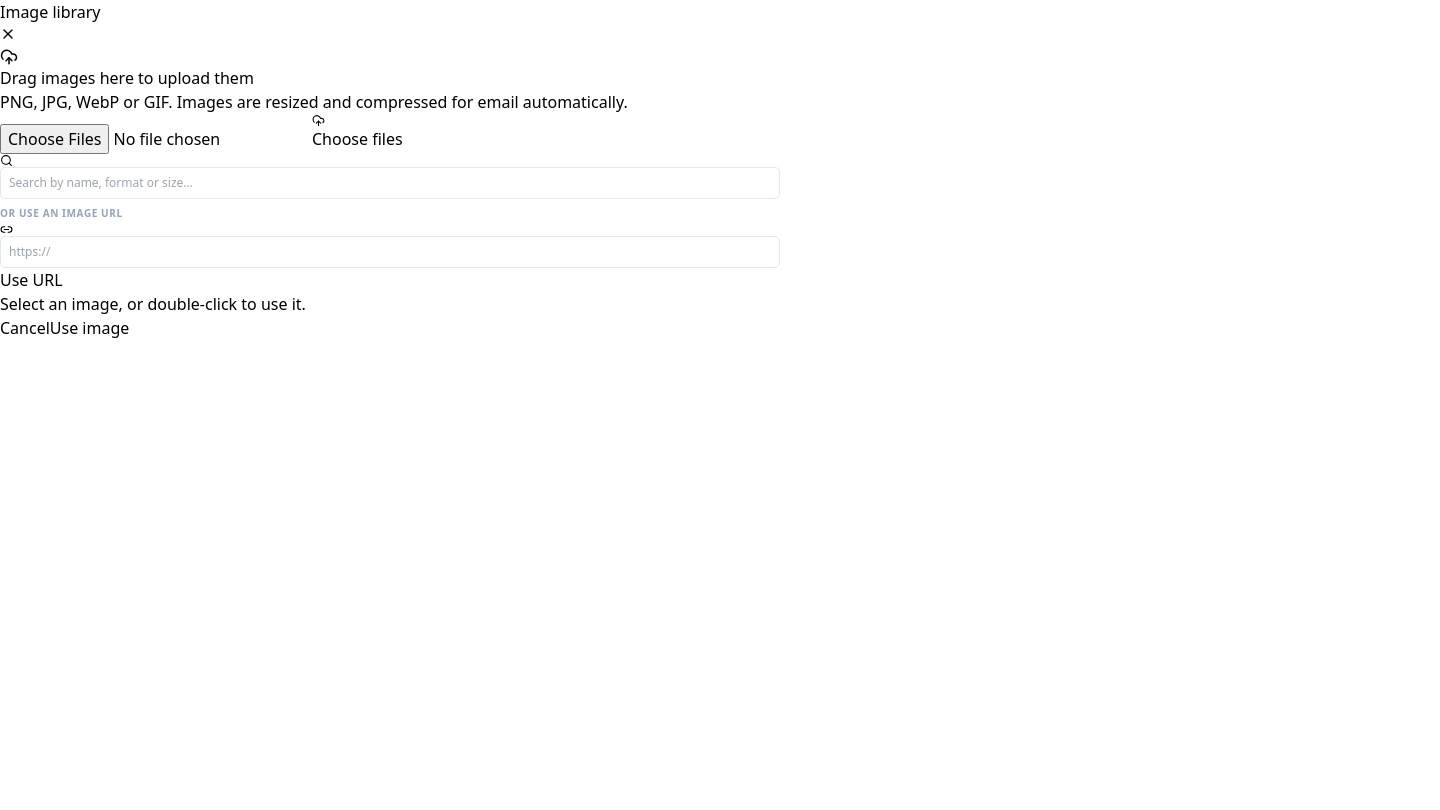
AssetLibraryModal › rejects a URL that is not http(s)
In the field named "Image URL": coordinates (390, 252) [0,236,780,268], type "javascript:alert(1)"
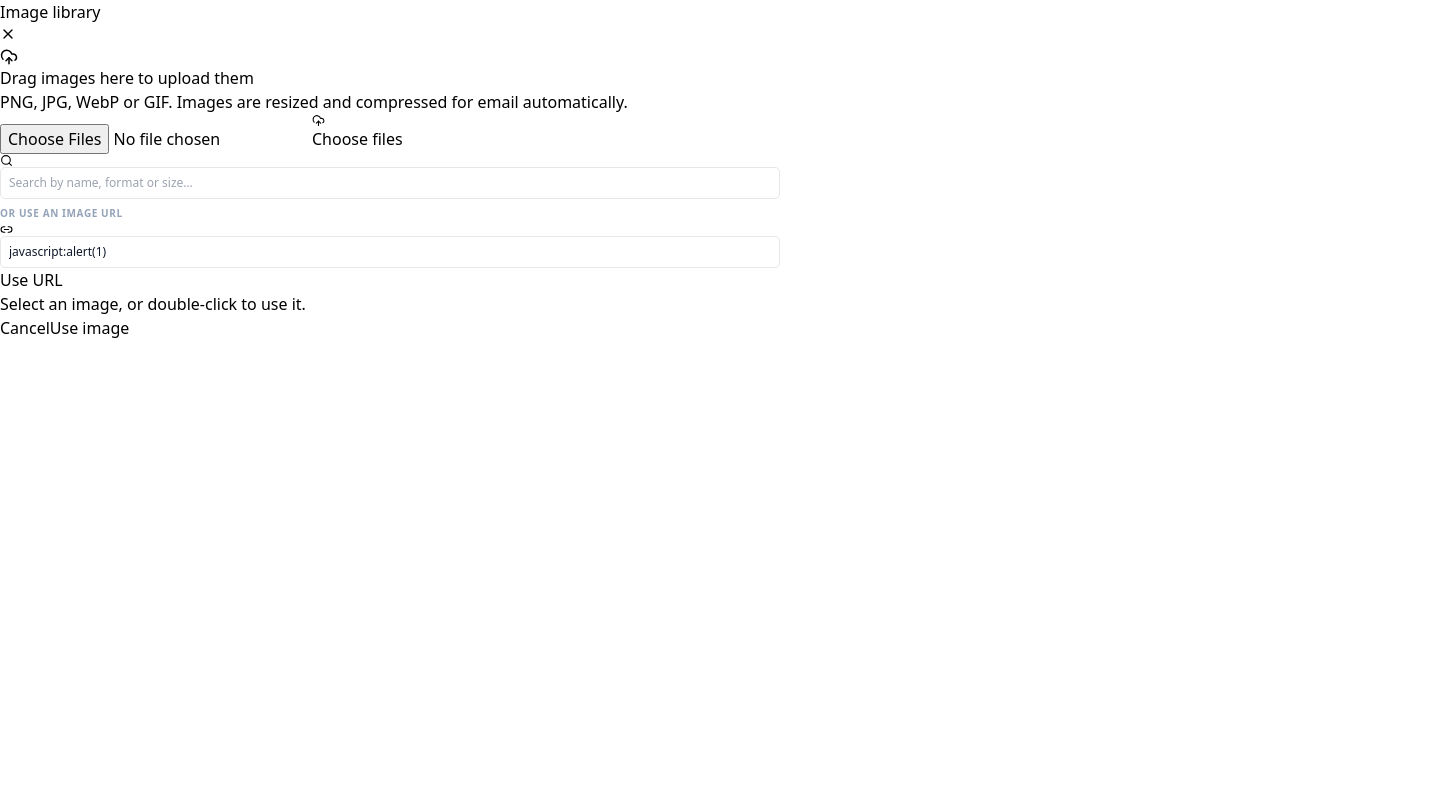
Click the button "Use URL": coordinates (31, 280) [0,268,63,292]
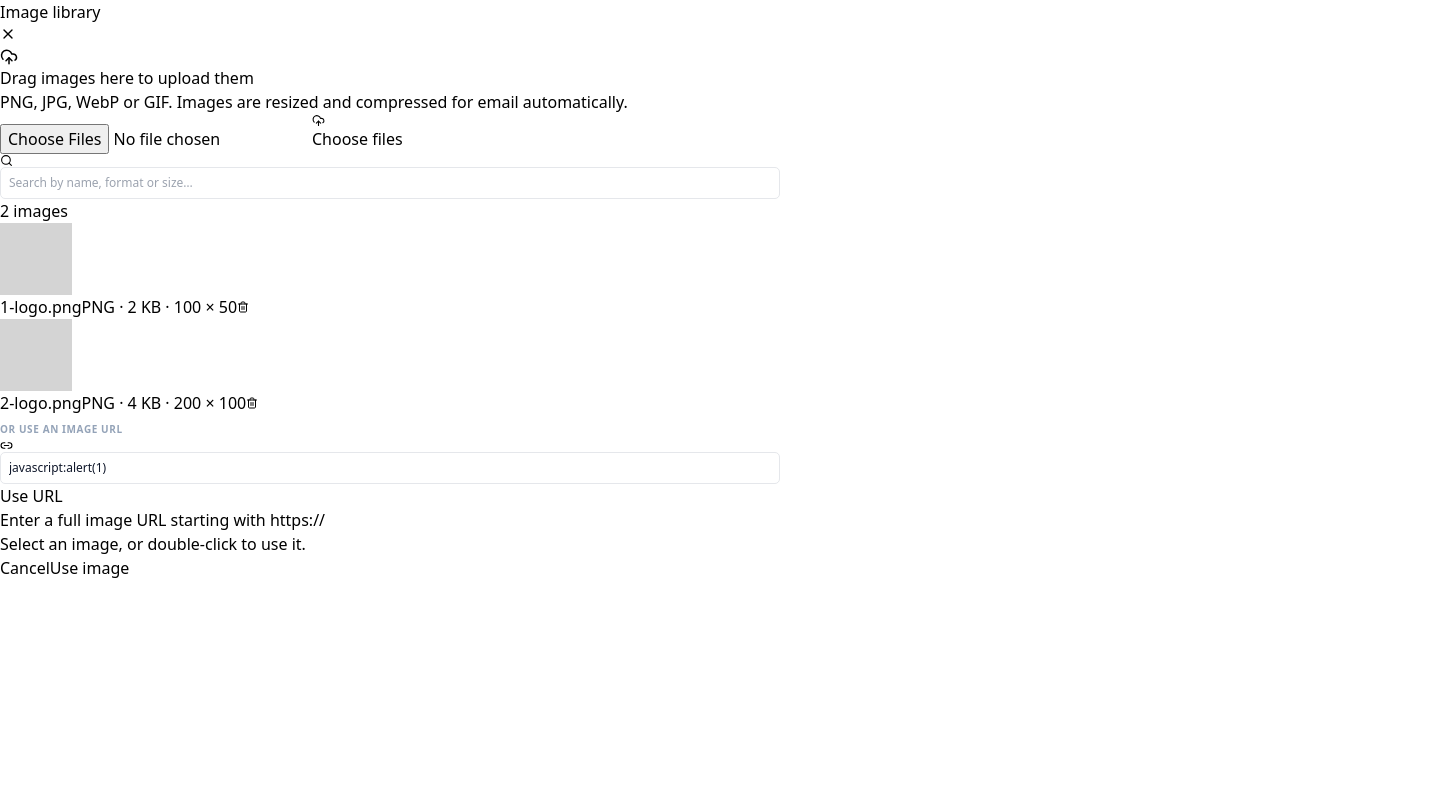
Now the message shows "https://", box [0,509,325,531]
